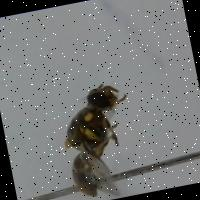Oriental-fruit-fly: (38, 64, 149, 200)
